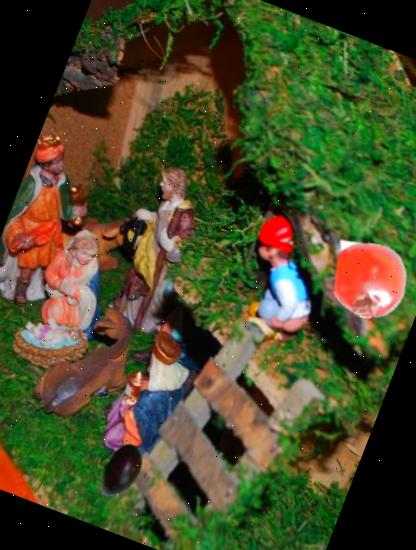Eggplant: (81, 432, 160, 512)
Redcurrant: (321, 232, 416, 329)
